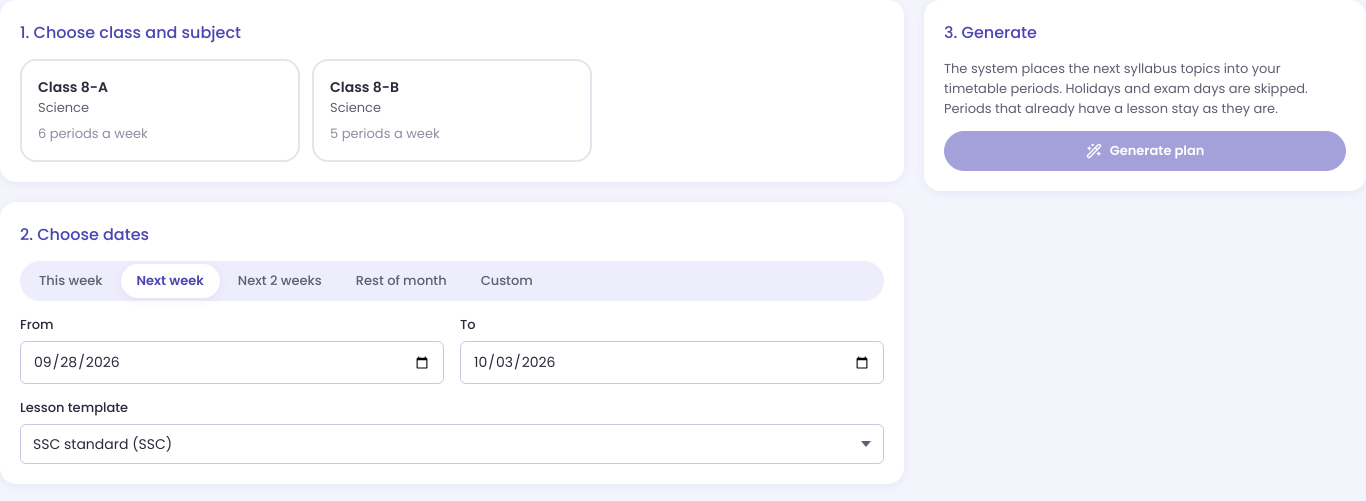
TC-04 Required fields on the Create Plan screen › keeps "Generate plan" disabled until a class & subject is chosen
This screenshot has width=1366, height=501.
Expected: the button "Generate plan" is disabled, top-left (944, 131), bottom-right (1346, 171)
What coordinates should you click on to do the following:
click the button "Class 8-A Science 6 periods a week"
I would click on:
 (73, 87)
Its box is top-left (20, 59), bottom-right (300, 162).
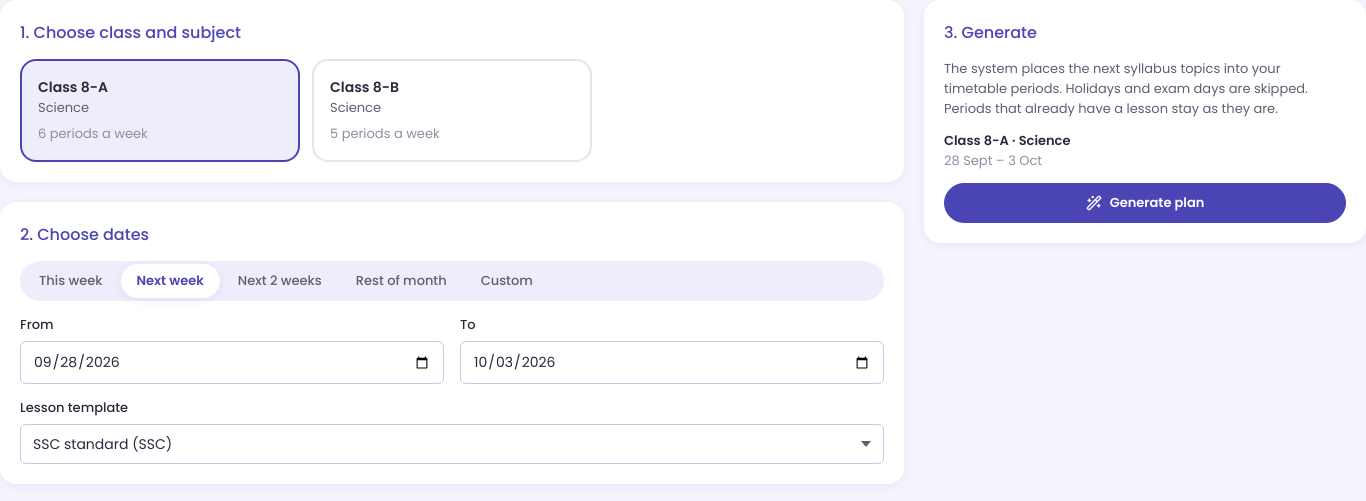
Result: the button "Generate plan" is enabled at top-left (944, 183), bottom-right (1346, 223)
